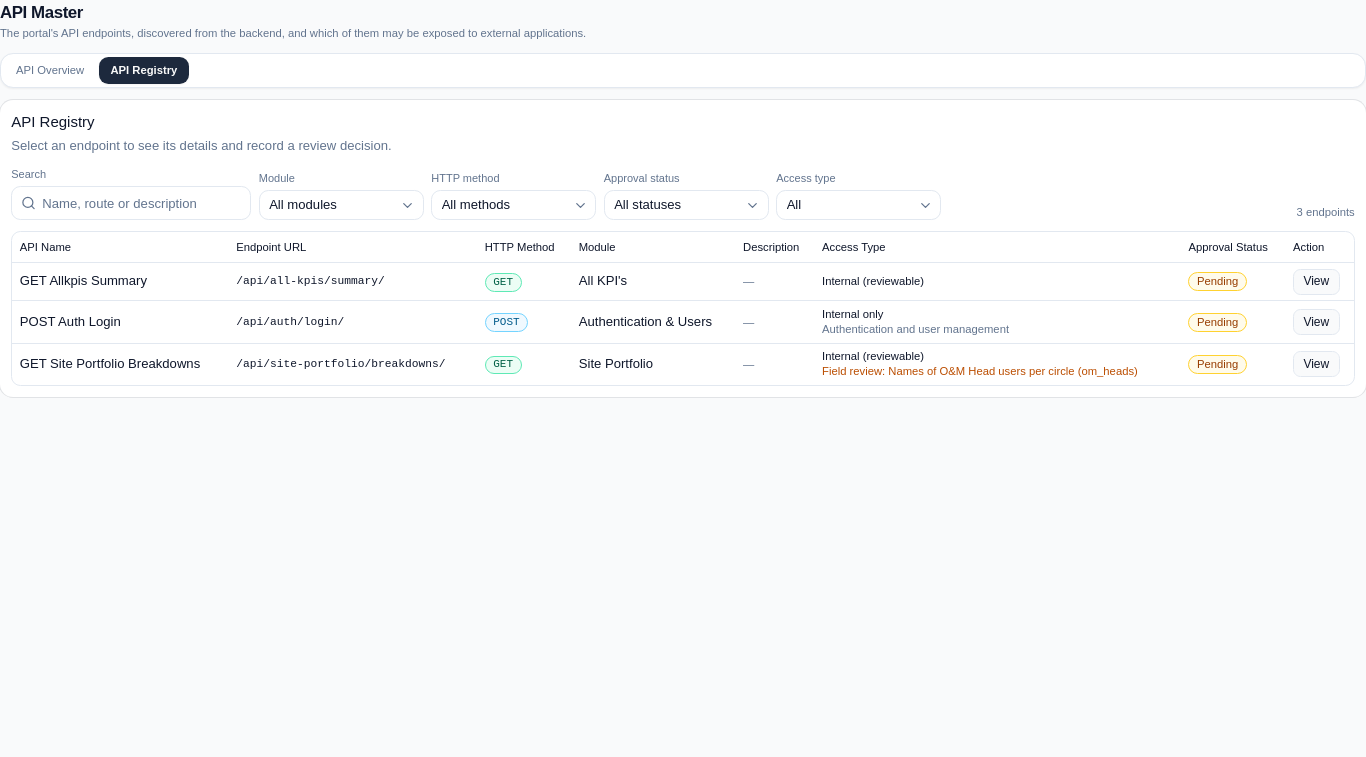
Test: API Master › never offers Approved for a blocked endpoint
Click the button with aria-label "View POST /api/auth/login/" at [1316, 322], box [1293, 309, 1340, 335]
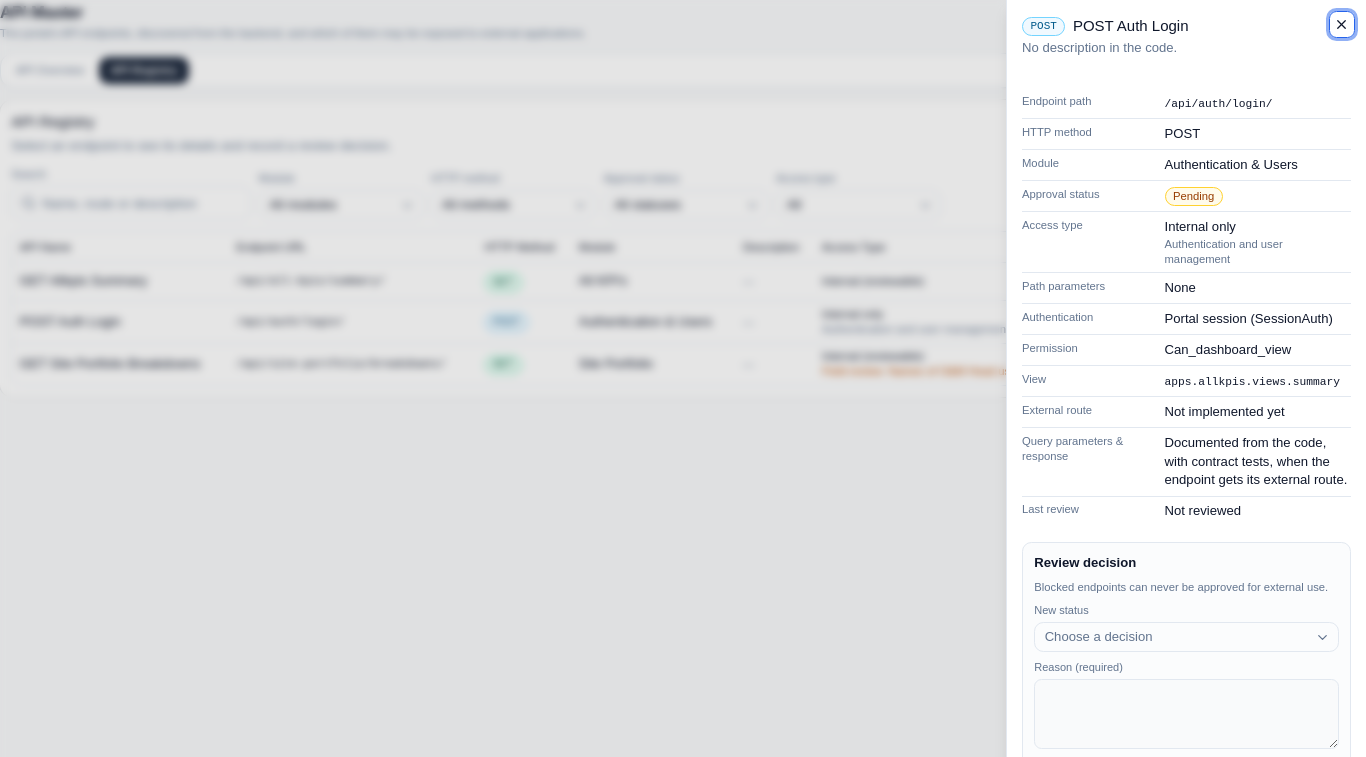
expect the form "Review decision" shows "Blocked endpoints can never be approved": met, box [1034, 581, 1328, 593]
Click the dropdown at [1099, 636], box [1034, 622, 1339, 652]
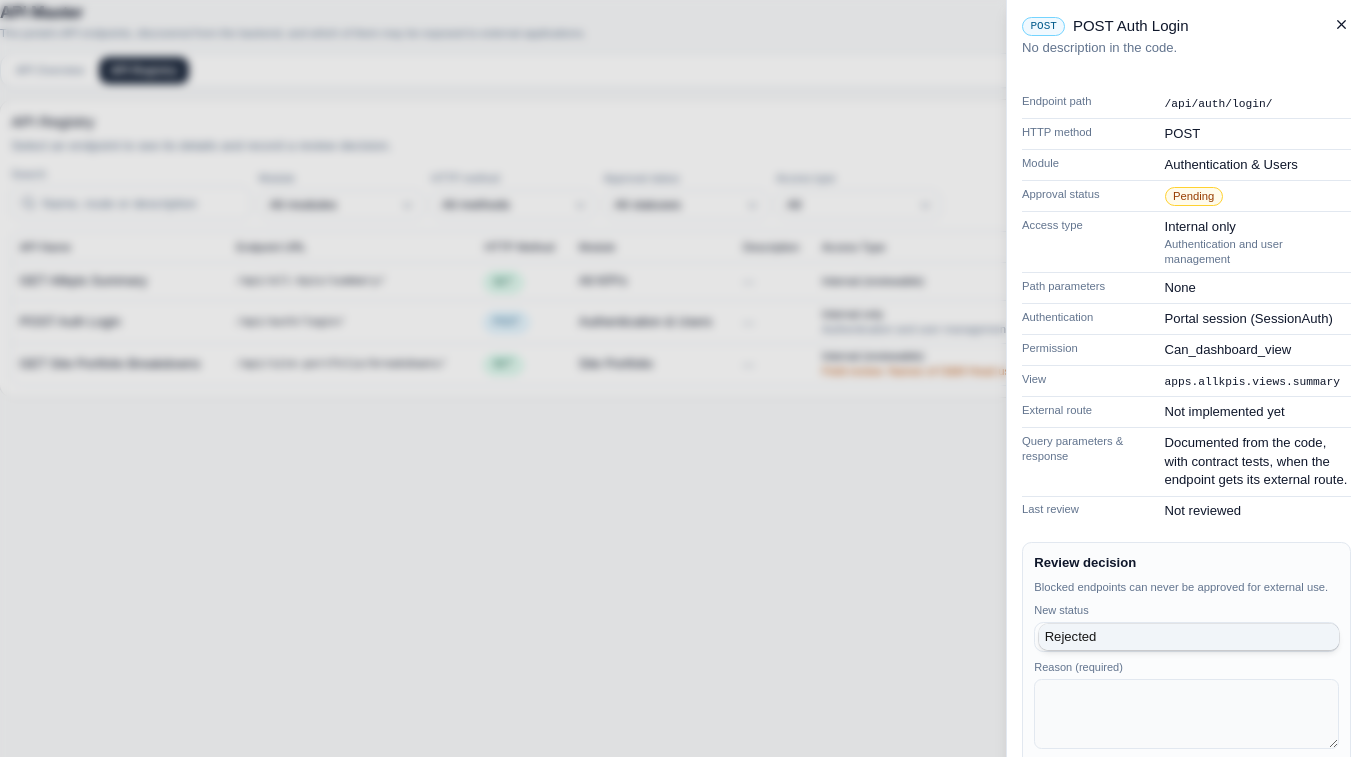
expect the option "Rejected" is shown: met, box [1039, 624, 1339, 650]
